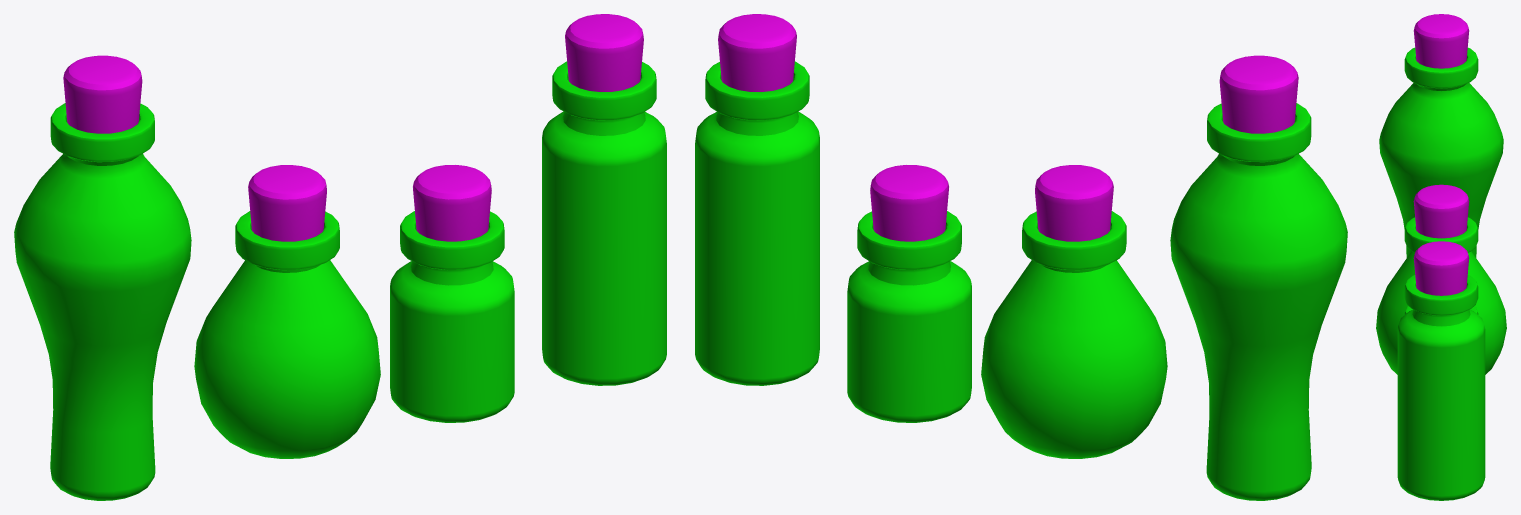
The model's file is bottles.fbx.
3 renders of one model, left to right at view 1: azimuth 30°, elevation 25°; view 2: azimuth 150°, elevation 25°; view 3: azimuth 270°, elevation 25°, orthographic. The views are drawn at different scales.
Parts seen in each view (by area): view 1: pot4, pot1, pot3, pot2, cork4, cork1, cork2, cork3; view 2: pot4, pot1, pot3, pot2, cork4, cork1, cork2, cork3; view 3: pot1, pot4, pot3, cork1, cork4, cork3.
Part boxes in pixels (<box>): pot4: <box>14,103,191,500</box>; pot1: <box>542,61,666,385</box>; pot3: <box>194,211,380,458</box>; pot2: <box>390,211,514,422</box>; cork4: <box>63,55,142,133</box>; cork1: <box>565,14,643,91</box>; cork2: <box>413,165,491,241</box>; cork3: <box>248,165,326,241</box>; pot4: <box>1170,103,1347,500</box>; pot1: <box>695,61,819,385</box>; pot3: <box>981,211,1167,458</box>; pot2: <box>847,211,971,422</box>; cork4: <box>1219,55,1298,133</box>; cork1: <box>718,14,796,91</box>; cork2: <box>870,165,948,241</box>; cork3: <box>1035,165,1113,241</box>; pot1: <box>1397,275,1485,500</box>; pot4: <box>1379,47,1503,257</box>; pot3: <box>1376,217,1506,374</box>; cork1: <box>1413,241,1469,295</box>; cork4: <box>1413,14,1469,68</box>; cork3: <box>1413,184,1469,238</box>.
Bounding box in the file's own units: 0.1199 × 0.0755 × 0.0307.
